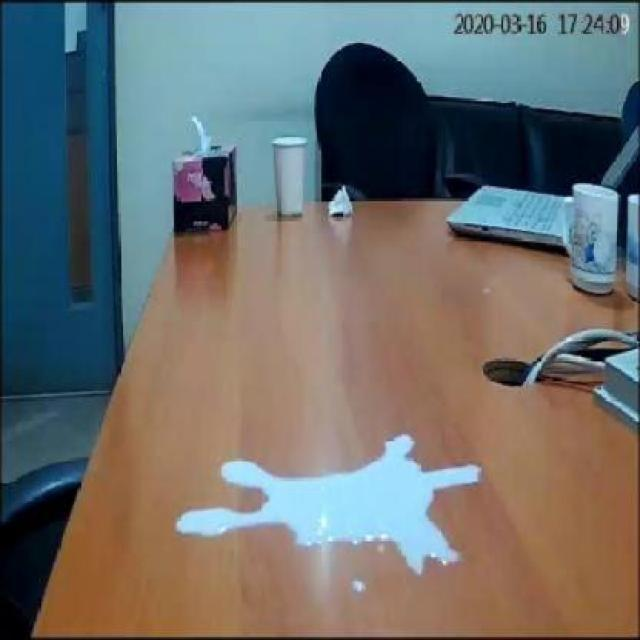spillage: (175, 435, 472, 575)
